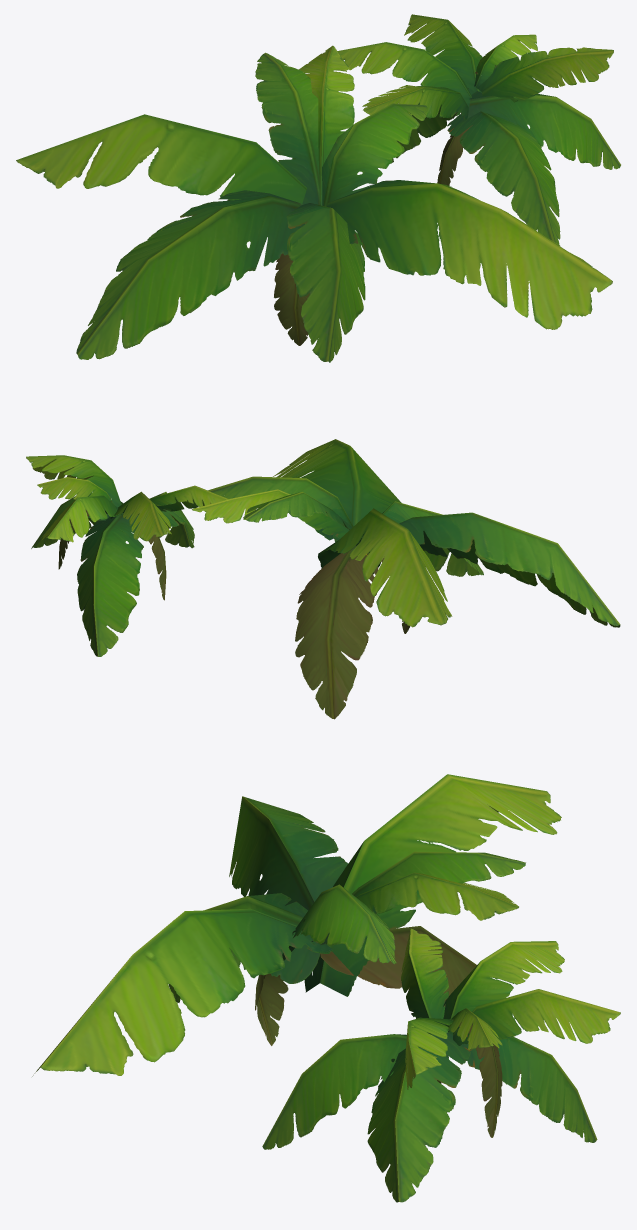
Rendered from scene_lawennushandao_yeshu02a.FBX.
3 renders of one model, top to bottom at view 1: azimuth 30°, elevation 25°; view 2: azimuth 150°, elevation 25°; view 3: azimuth 270°, elevation 25°, orthographic. The views are drawn at different scales.
Parts seen in each view (by area): view 1: scene_lawennushandao_yeshu02a; view 2: scene_lawennushandao_yeshu02a; view 3: scene_lawennushandao_yeshu02a.
Boxes of the visible parts, bbox=[...] form: scene_lawennushandao_yeshu02a: bbox=[16, 14, 620, 362]; scene_lawennushandao_yeshu02a: bbox=[26, 439, 620, 719]; scene_lawennushandao_yeshu02a: bbox=[32, 774, 620, 1202].
Size of the model in its own units: 608 by 242 by 448.
